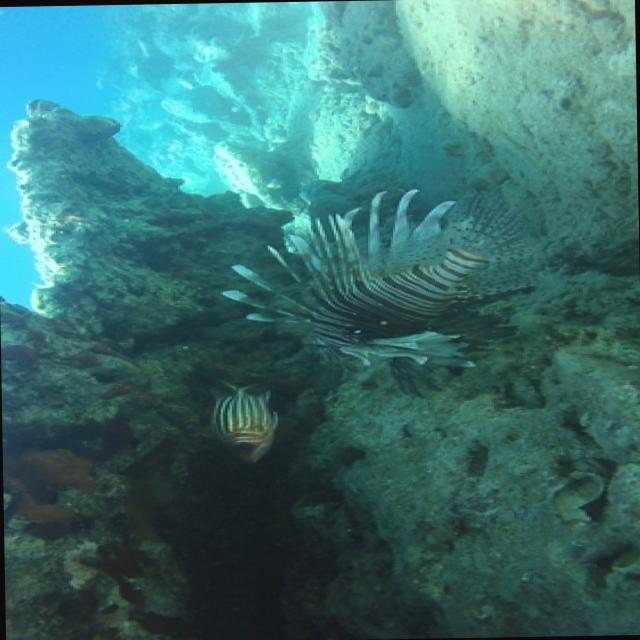Aslan Baligi: (214, 182, 539, 402)
